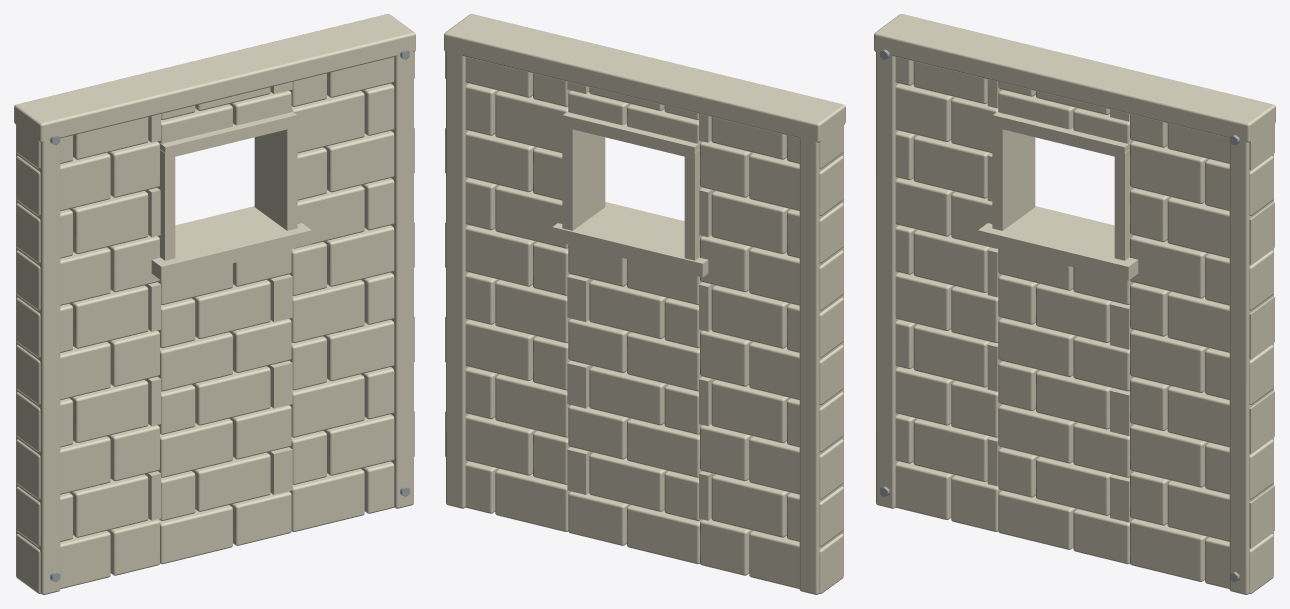
Rendered from rural-scavenging-settlements-stone-cottage-vent-wall-46102541__26469.glb.
The picture shows the model from 3 angles, left to right: view 1: azimuth 30°, elevation 25°; view 2: azimuth 150°, elevation 25°; view 3: azimuth 330°, elevation 25°; orthographic projection.
Parts seen in each view (by area): view 1: stone-cottage-vent-wall; view 2: stone-cottage-vent-wall; view 3: stone-cottage-vent-wall.
Boxes of the visible parts, bbox=[...] form: stone-cottage-vent-wall: bbox=[14, 14, 415, 594]; stone-cottage-vent-wall: bbox=[444, 14, 845, 594]; stone-cottage-vent-wall: bbox=[874, 14, 1275, 594].
Bounding box in the file's own units: 2 × 2.4 × 0.3601.
